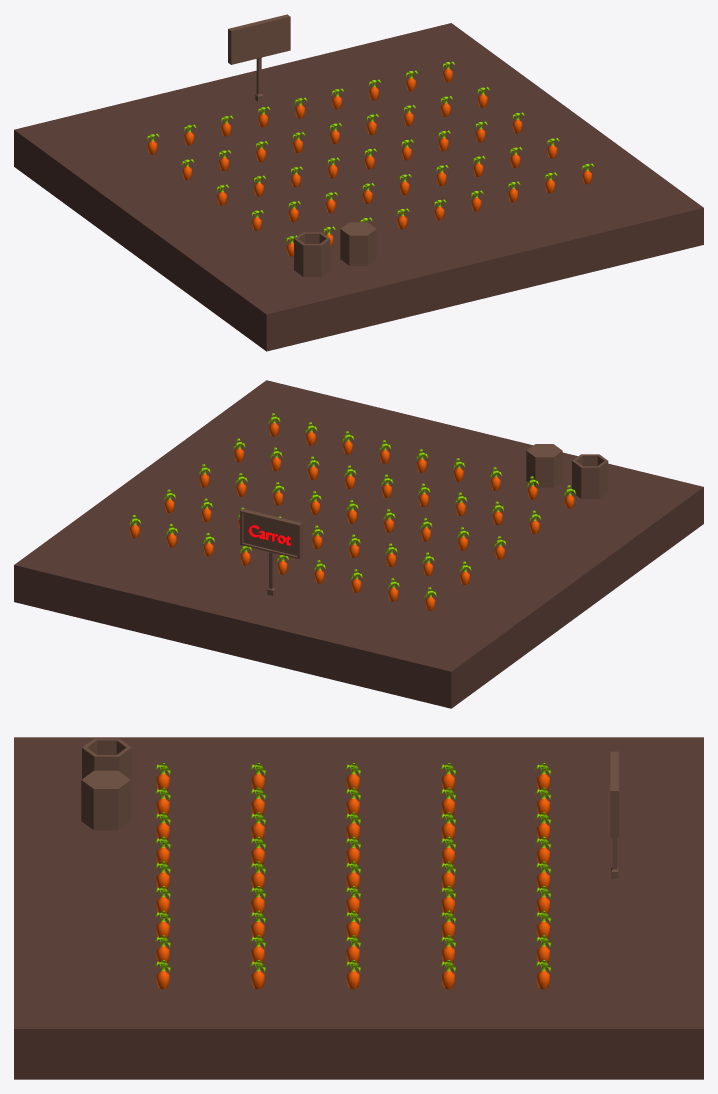
Rendered from Carrot_A.fbx.
3 views of the same model, one above another, from view 1: azimuth 30°, elevation 25°; view 2: azimuth 150°, elevation 25°; view 3: azimuth 270°, elevation 25° (orthographic). The views are drawn at different scales.
Visible parts, largest first — view 1: Cube.047, Plane.038, Cube.048, Cylinder.027, Cylinder.028; view 2: Cube.047, Plane.038, Cube.048, Cylinder.027, Cylinder.028; view 3: Cube.047, Plane.038, Cylinder.028, Cylinder.027, Cube.048.
Boxes of the visible parts, left/top/right/bottom form: Cube.047: left=14, top=23, right=703, bottom=351; Plane.038: left=147, top=61, right=594, bottom=256; Cube.048: left=228, top=14, right=290, bottom=101; Cylinder.027: left=294, top=232, right=330, bottom=276; Cylinder.028: left=340, top=222, right=376, bottom=265; Cube.047: left=14, top=380, right=703, bottom=708; Plane.038: left=129, top=413, right=575, bottom=610; Cube.048: left=240, top=508, right=302, bottom=595; Cylinder.027: left=572, top=454, right=608, bottom=498; Cylinder.028: left=526, top=444, right=562, bottom=487; Cube.047: left=14, top=737, right=703, bottom=1079; Plane.038: left=155, top=763, right=551, bottom=989; Cylinder.028: left=81, top=770, right=130, bottom=830; Cylinder.027: left=82, top=738, right=131, bottom=790; Cube.048: left=610, top=751, right=618, bottom=878.
Size of the model in its own units: 2690 by 681 by 2690.
